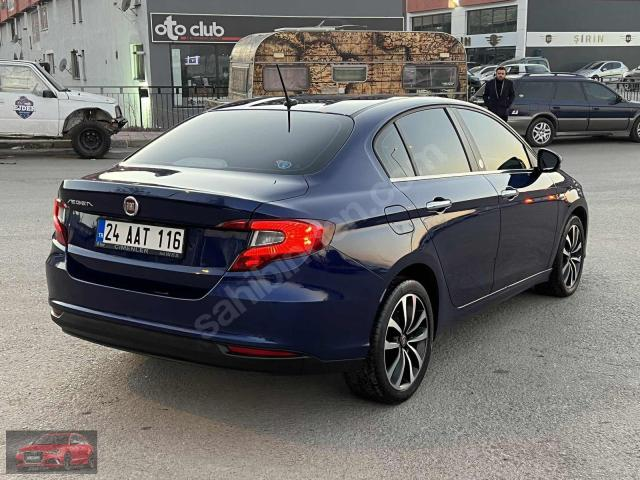plaka: (96, 219, 184, 258)
